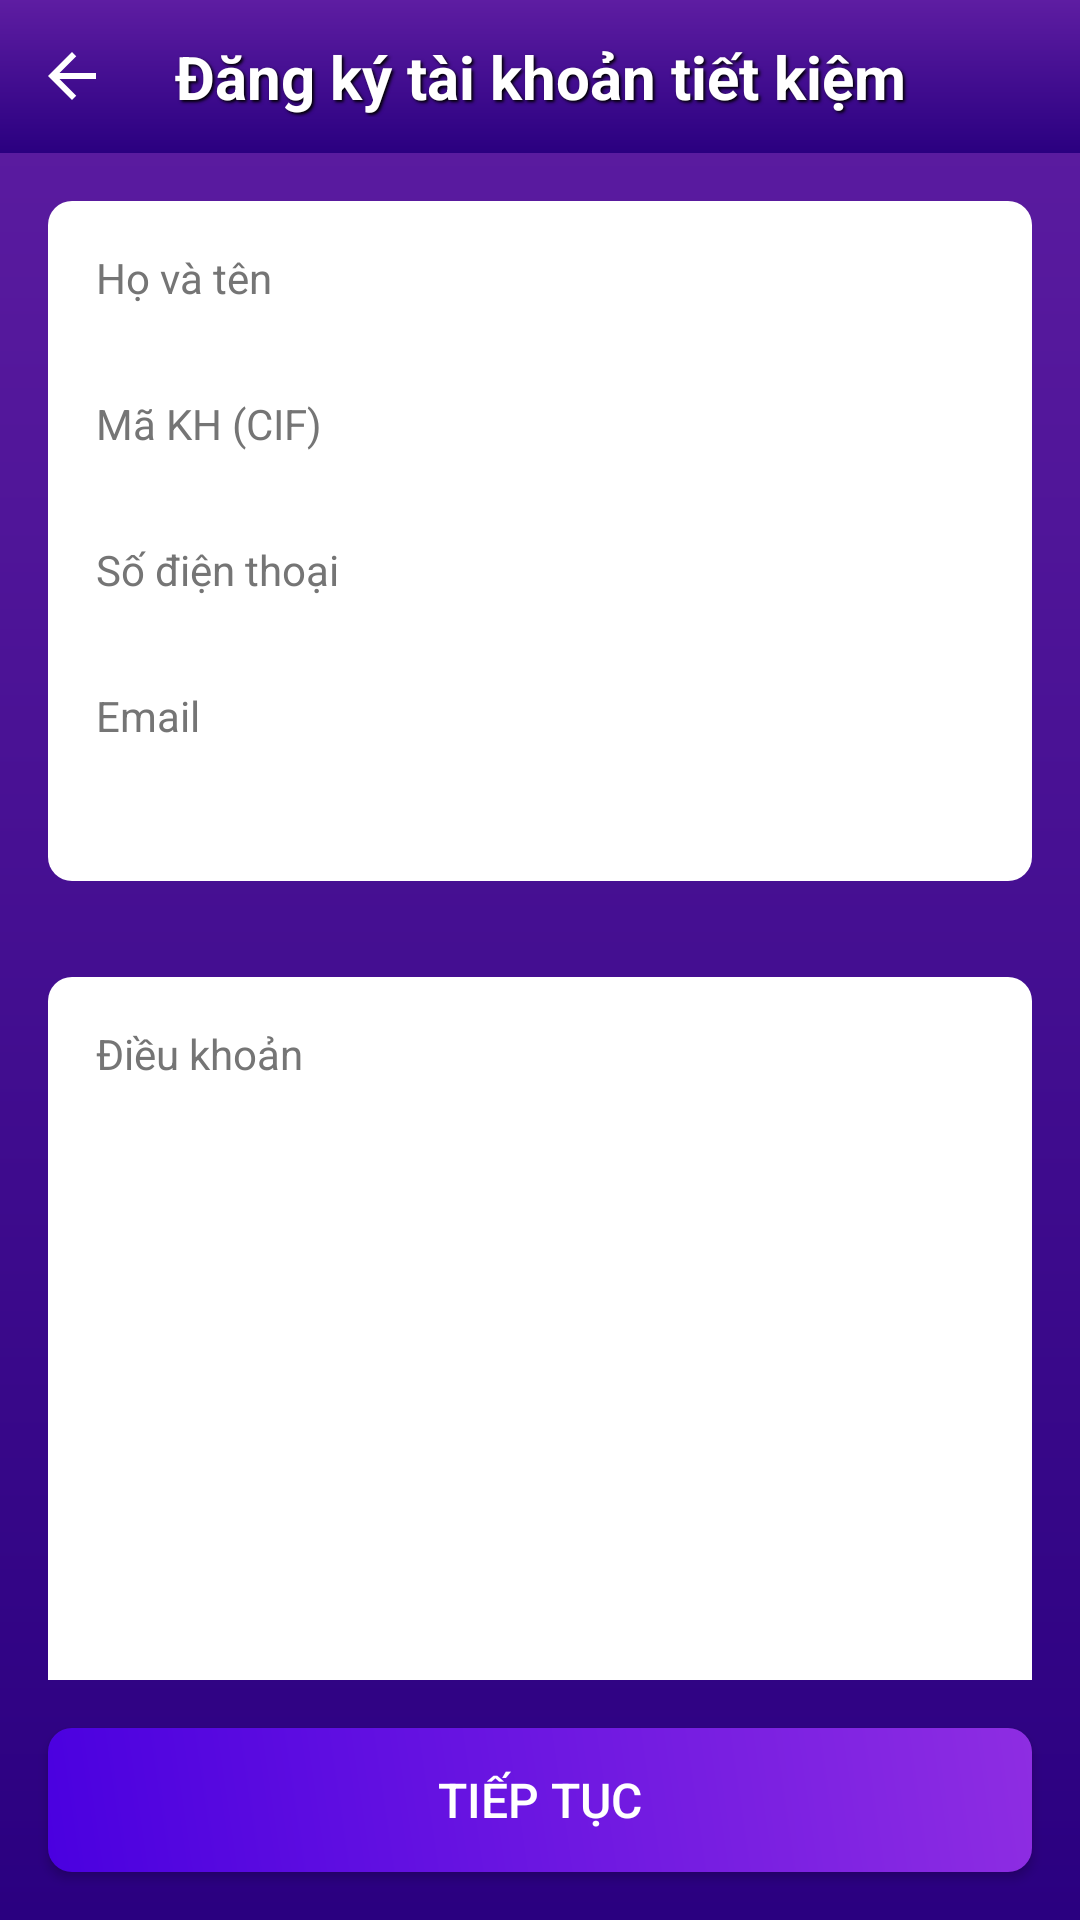

Locate icon controls on the screen. Image size 1080x1920, boxes as [x1,y1,x2,y2].
Back Button: [36,40,108,100]
